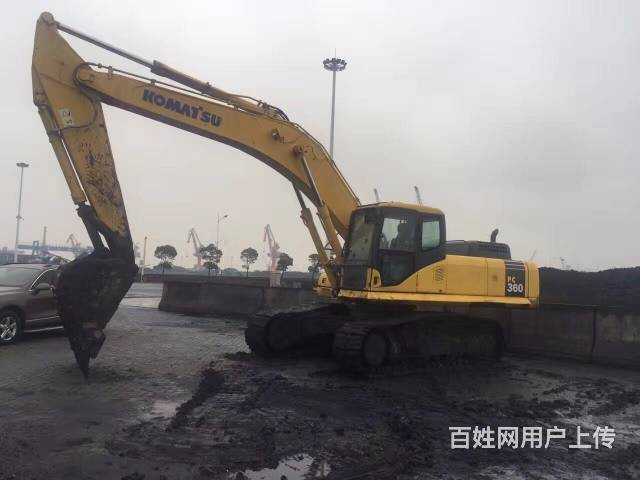excavator: (17, 5, 586, 387)
